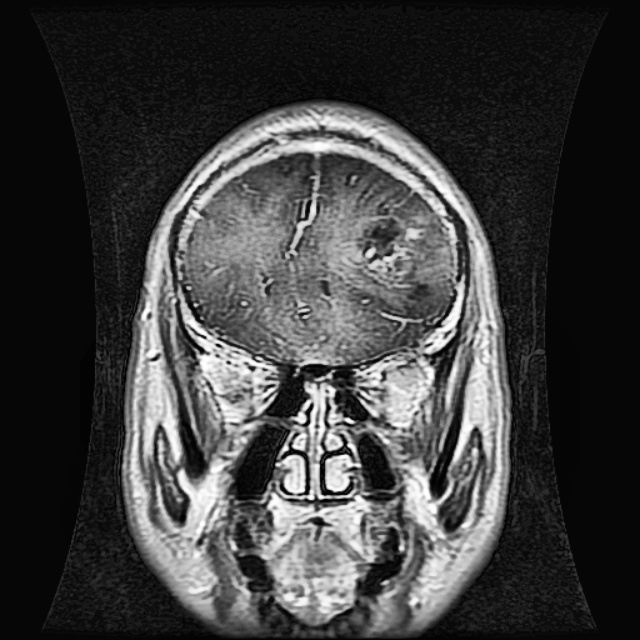Glioma: (357, 207, 430, 279)
